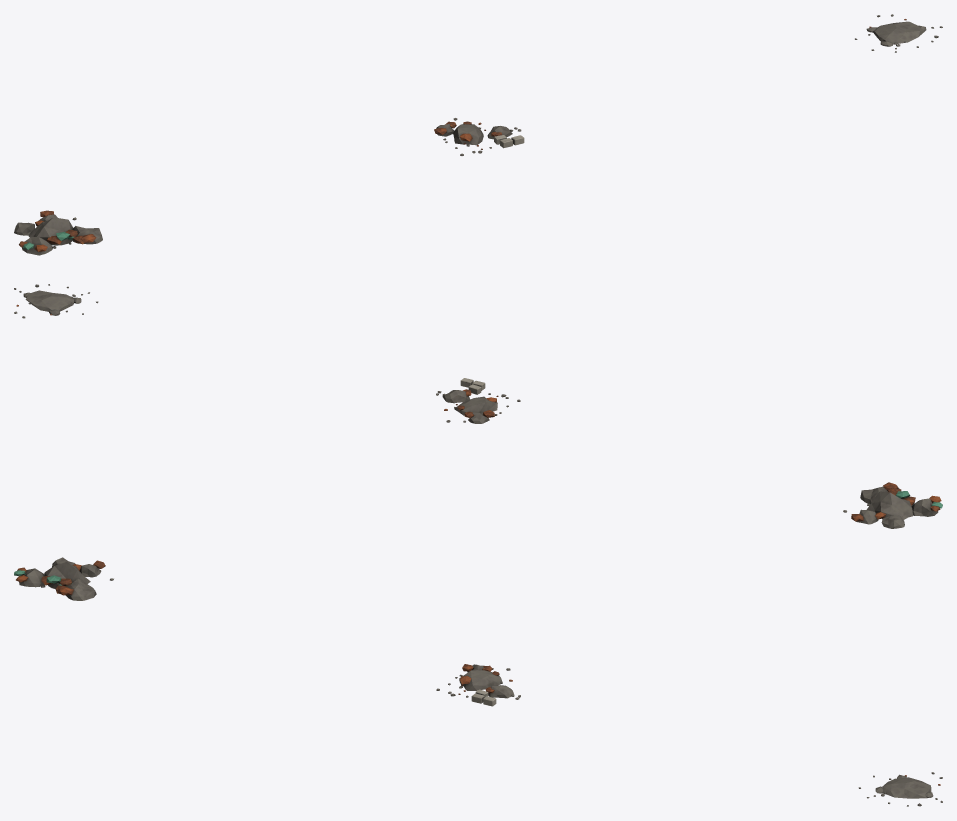
File: ore-outcrop.glb
The picture shows the model from 3 angles, top to bottom: view 1: azimuth 30°, elevation 25°; view 2: azimuth 150°, elevation 25°; view 3: azimuth 330°, elevation 25°; orthographic projection.
Visible parts, largest first — view 1: LOD0, LOD0.001, LOD0.002; view 2: LOD0, LOD0.001, LOD0.002; view 3: LOD0, LOD0.001, LOD0.002.
Boxes of the visible parts, x1,y1,x2,y2 form: LOD0: [14, 210, 102, 255]; LOD0.001: [434, 118, 524, 155]; LOD0.002: [855, 14, 942, 52]; LOD0: [843, 482, 942, 528]; LOD0.001: [436, 378, 520, 423]; LOD0.002: [14, 284, 98, 318]; LOD0: [14, 557, 113, 600]; LOD0.001: [436, 664, 520, 706]; LOD0.002: [858, 772, 942, 806].
Size of what is drawn, in the model's own units: 6.59 by 0.1287 by 0.5735.
Materials: 1 (1 with a texture image).
